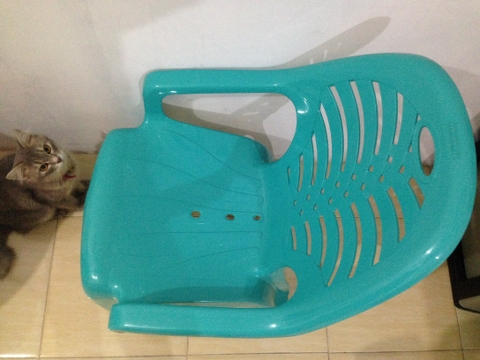kursi: (80, 53, 477, 338)
